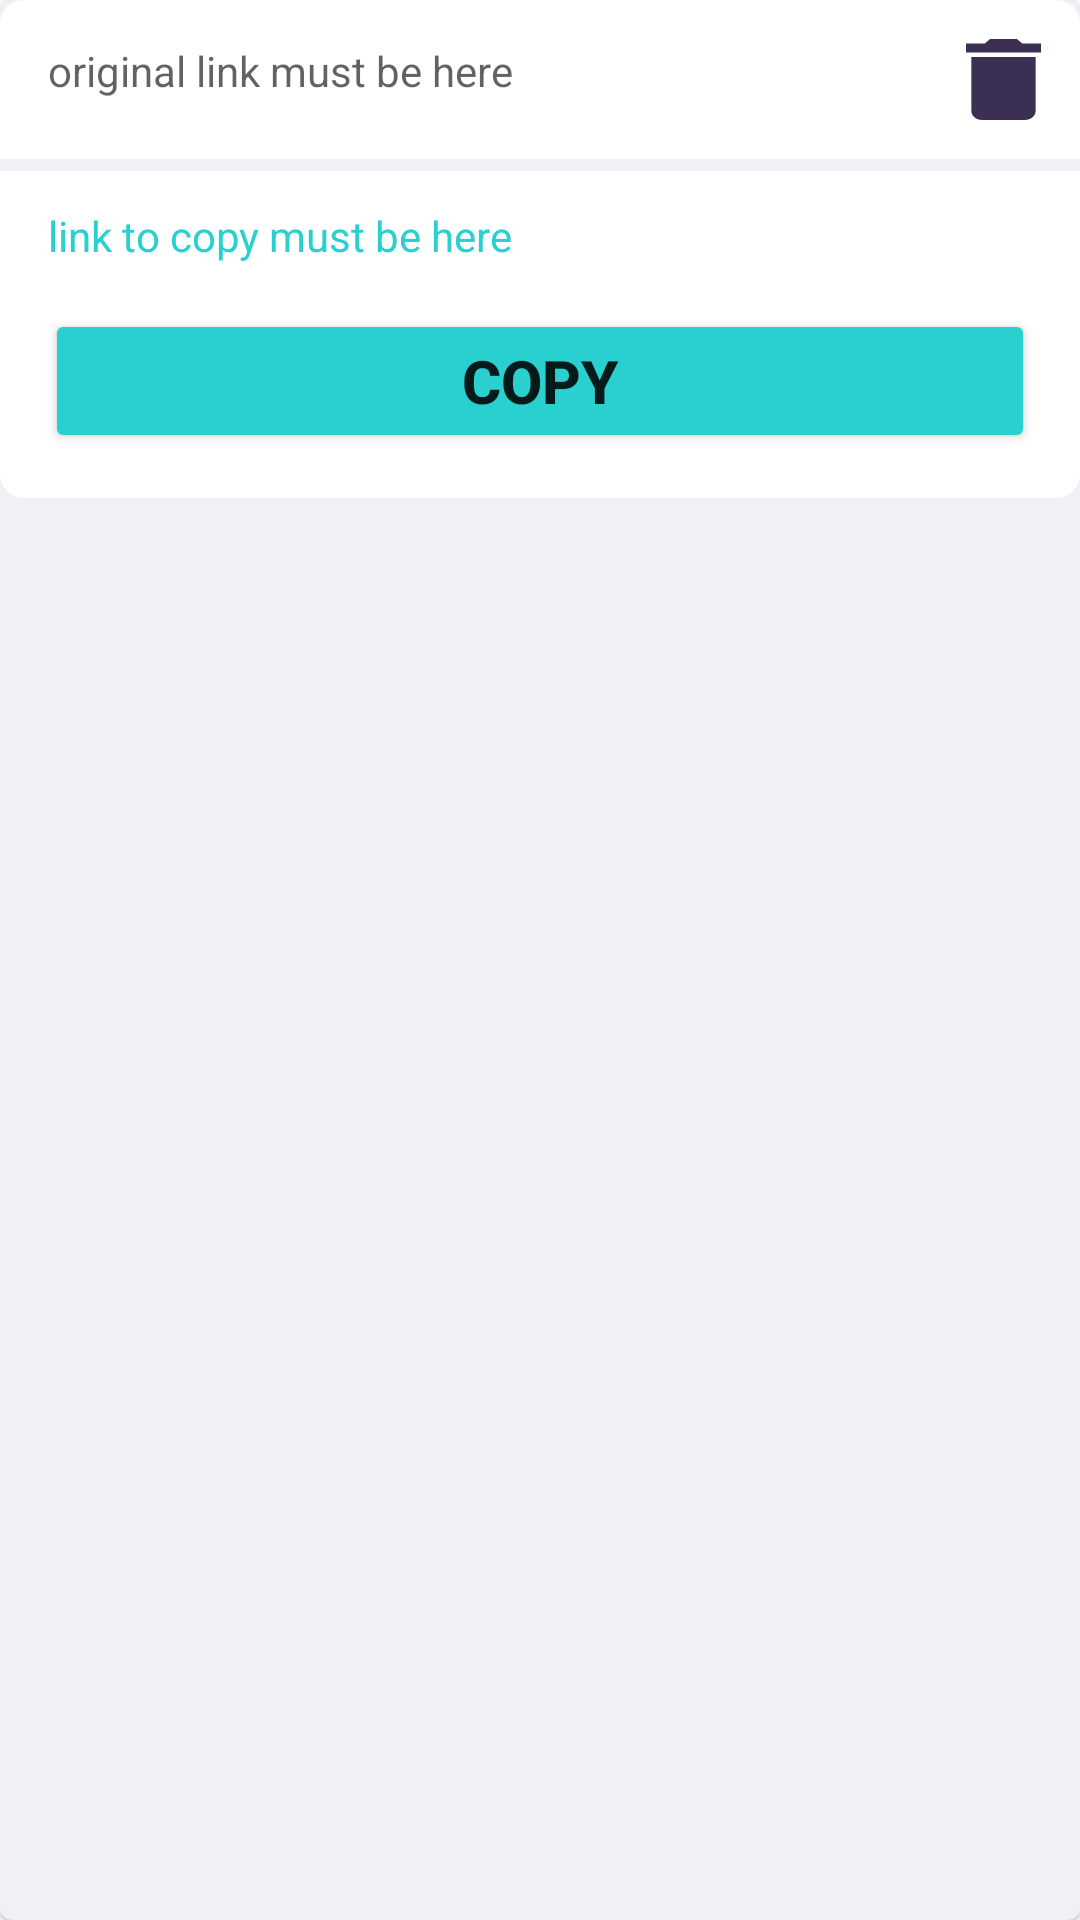

Icon click points for this 1080*1920 phone screenshot, format [x,y]:
del: [1003,79]
